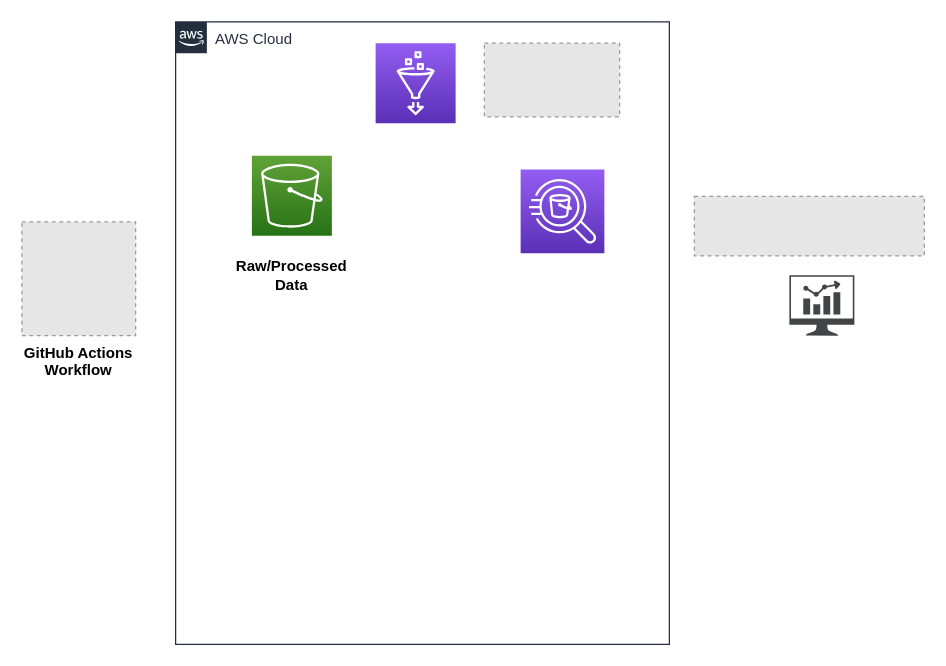
Image size: 946x666. Some labels were removed from this diagram. Grey dashed boxes stand in for pictures. Here are the shapes that lost their labels. From the top down, the centre of each, then its label:
At pixel 415 82: "ETL Jobs".
At pixel 561 210: "Athena (SQL Engine)".
